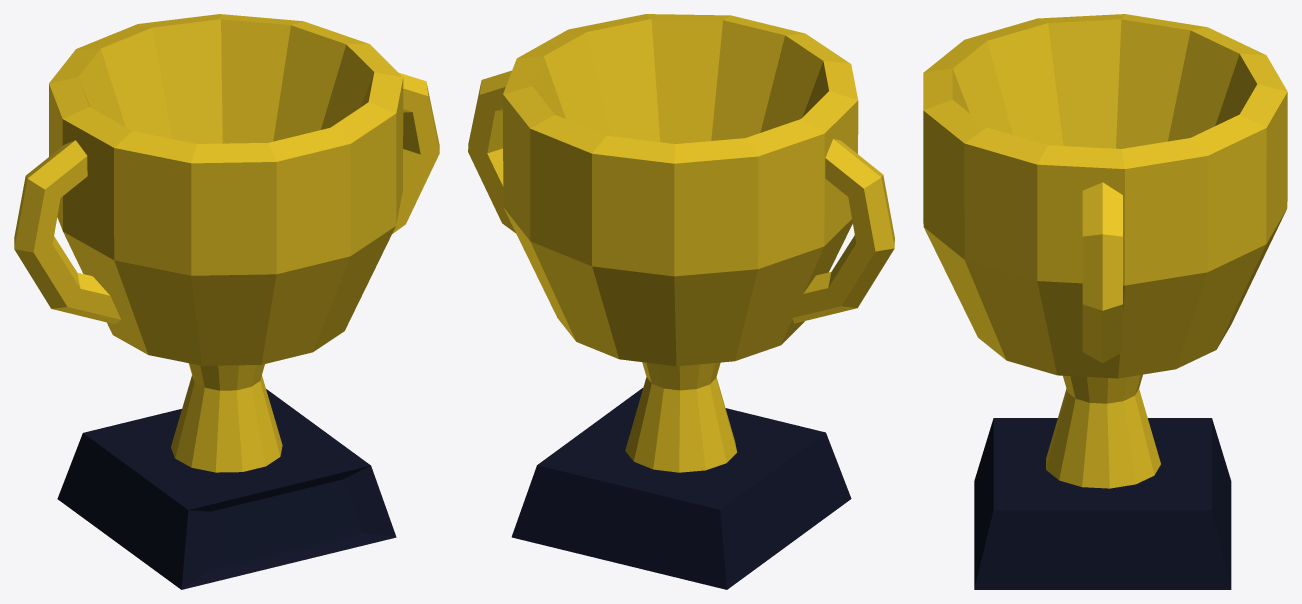
Rendered from GoldPoklaer.fbx.
The picture shows the model from 3 angles, left to right: view 1: azimuth 30°, elevation 25°; view 2: azimuth 150°, elevation 25°; view 3: azimuth 270°, elevation 25°; orthographic projection. The views are drawn at different scales.
Visible parts, largest first — view 1: Cylinder.002, Cube.001, BézierCurve.001; view 2: Cylinder.002, Cube.001, BézierCurve.001; view 3: Cylinder.002, Cube.001, BézierCurve.001.
Part boxes in pixels (x1,y1,x2,y2): Cylinder.002: (49,14,403,472); Cube.001: (57,389,396,589); BézierCurve.001: (14,73,439,324); Cylinder.002: (503,14,858,472); Cube.001: (511,388,851,589); BézierCurve.001: (468,70,894,323); Cylinder.002: (923,14,1287,488); Cube.001: (974,418,1231,589); BézierCurve.001: (1082,182,1122,362).
Size of the model in its own units: 396 by 387 by 283.
